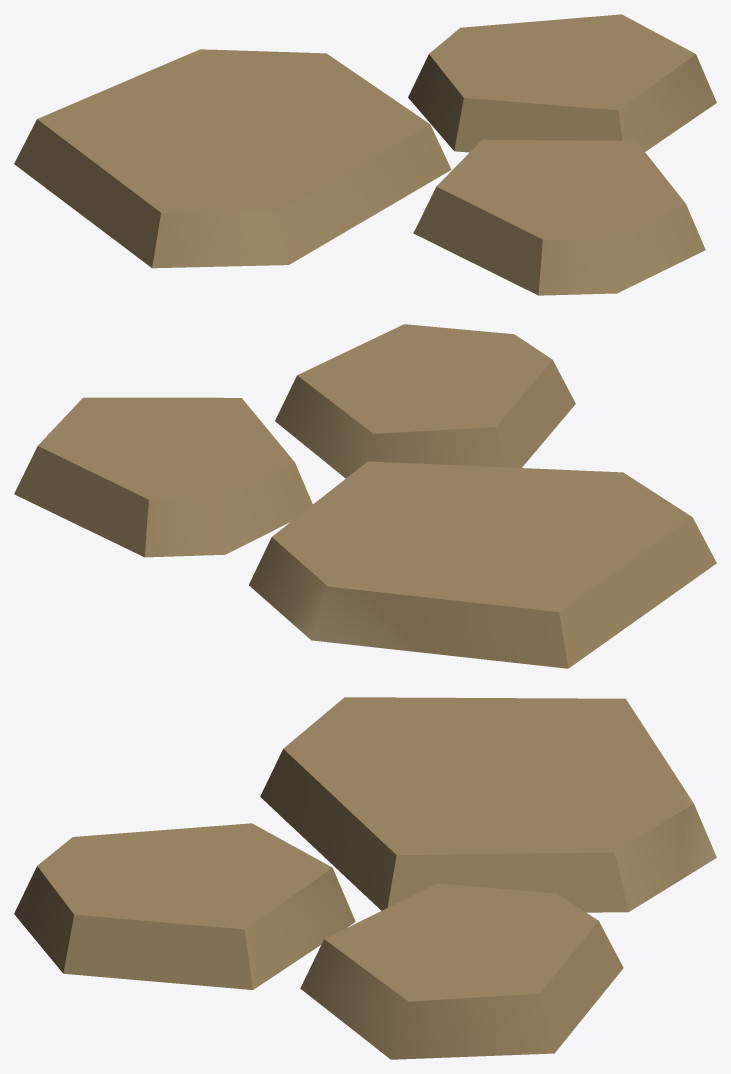
File: Rocas-Piso-1.FBX
The picture shows the model from 3 angles, top to bottom: view 1: azimuth 30°, elevation 25°; view 2: azimuth 150°, elevation 25°; view 3: azimuth 270°, elevation 25°; orthographic projection. The views are drawn at different scales.
Visible parts, largest first — view 1: Rocas-Piso-1; view 2: Rocas-Piso-1; view 3: Rocas-Piso-1.
Boxes of the visible parts, x1,y1,x2,y2 form: Rocas-Piso-1: (14,14,716,295); Rocas-Piso-1: (14,324,716,668); Rocas-Piso-1: (14,697,716,1059).
Size of the model in its own units: 113 by 8.44 by 105.
1 material, 1 textured.
